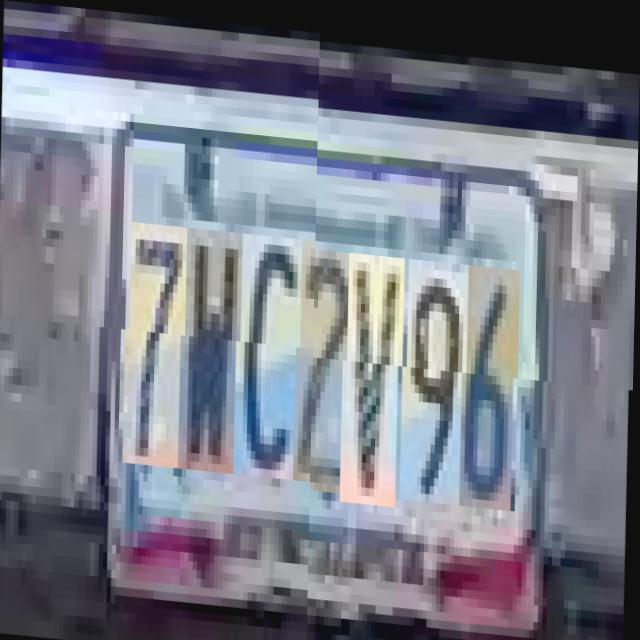2: (299, 241, 359, 487)
6: (466, 255, 520, 500)
7: (128, 227, 188, 473)
9: (406, 250, 470, 496)
C: (240, 236, 304, 482)
V: (346, 245, 406, 499)
W: (184, 232, 244, 478)
